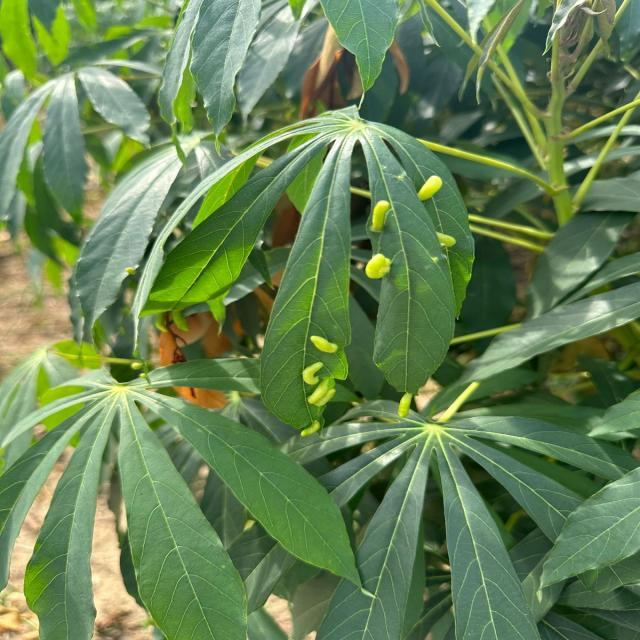Mosca: (295, 318, 346, 449), (369, 198, 401, 302), (403, 164, 443, 203), (430, 226, 472, 259), (393, 377, 419, 427)
